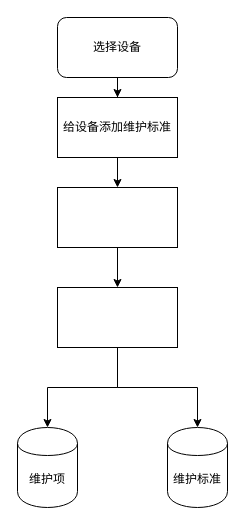
This 245x525 diagram has some shape labels left out. The shapes that lost their labels are listed below. From the top down, each one's centre as x and y in pixels, then its label:
At [117,217]: "输入设备维护项内容".
At [117,317]: "整理维护项和维护标准对象".
